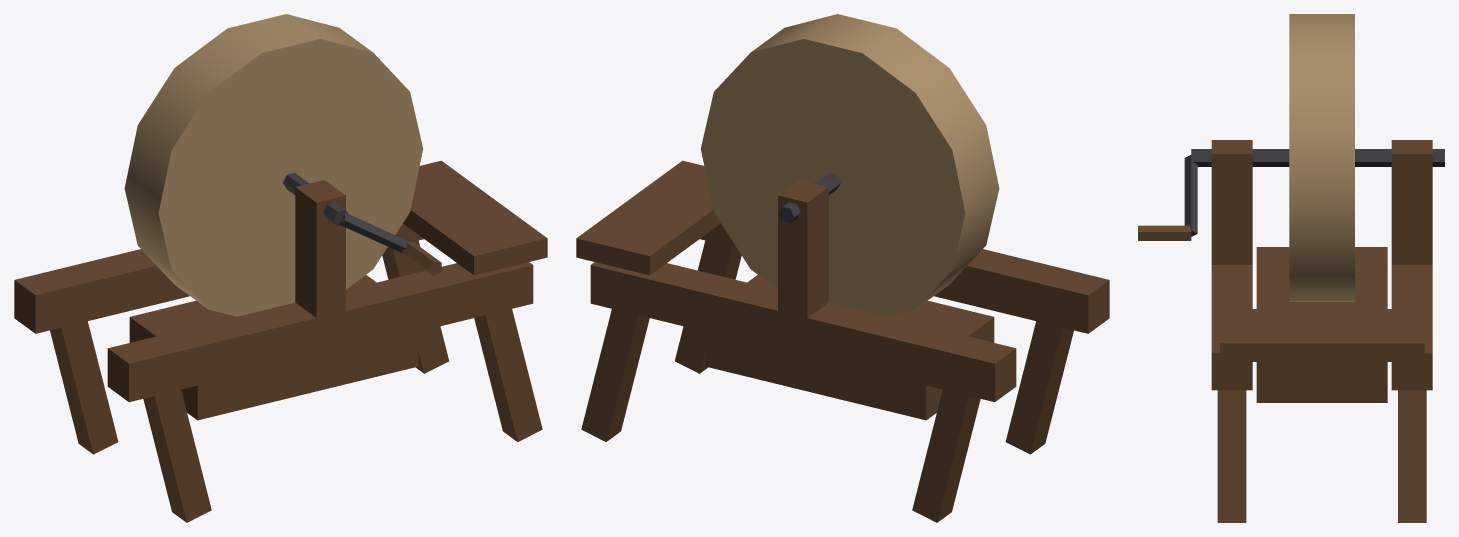
File: Grindstone.fbx
The picture shows the model from 3 angles, left to right: view 1: azimuth 30°, elevation 25°; view 2: azimuth 150°, elevation 25°; view 3: azimuth 270°, elevation 25°; orthographic projection. The views are drawn at different scales.
Parts seen in each view (by area): view 1: Grindstone; view 2: Grindstone; view 3: Grindstone.
Part boxes in pixels (x1,y1,x2,y2): Grindstone: [14, 14, 547, 522]; Grindstone: [576, 14, 1109, 522]; Grindstone: [1138, 14, 1444, 522].
Size of the model in its own units: 1.15 by 1.08 by 0.75.
